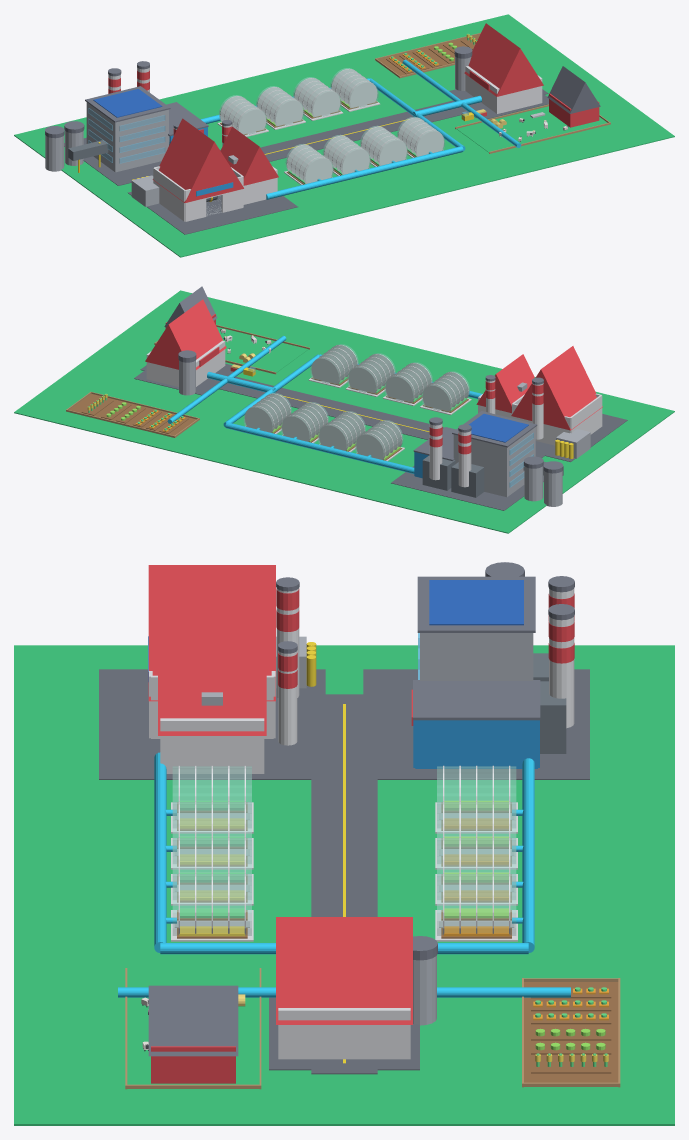
The model's file is agro_power_complex.glb.
3 renders of one model, top to bottom at view 1: azimuth 30°, elevation 25°; view 2: azimuth 150°, elevation 25°; view 3: azimuth 270°, elevation 25°, orthographic. The views are drawn at different scales.
Parts seen in each view (by area): view 1: Agro_Master_Green_Base, Coal_Boiler_Tower, Gas_Roof_Main, Farm_Kitchen_Roof, Pasture_Meadow, Central_Boulevard_Road, Gas_Plaza_Asphalt, Gas_Roof_Boiler, Farm_Kitchen_Main, Animal_Barn_Roof, Pipe_Gas_Main, GH1_Vault.003 (+34 smaller); view 2: Agro_Master_Green_Base, Gas_Roof_Main, Coal_Boiler_Tower, Farm_Kitchen_Roof, Central_Boulevard_Road, Pasture_Meadow, Gas_Roof_Boiler, Coal_Plaza_Asphalt, Pipe_Coal_Main, GH2_Vault, GH2_Vault.001, GH2_Vault.002 (+34 smaller); view 3: Agro_Master_Green_Base, Central_Boulevard_Road, Farm_Kitchen_Roof, Gas_Roof_Main, Gas_Plaza_Asphalt, Coal_Plaza_Asphalt, Gas_Roof_Boiler, Farm_Kitchen_Main, Animal_Barn_Roof, Pasture_Meadow, Coal_Turbine_Wall_R, Coal_Boiler_Tower (+26 smaller).
Part boxes in pixels (<box>): Agro_Master_Green_Base: <box>14,14,674,257</box>; Coal_Boiler_Tower: <box>86,102,168,172</box>; Gas_Roof_Main: <box>152,118,243,202</box>; Farm_Kitchen_Roof: <box>464,23,543,96</box>; Pasture_Meadow: <box>457,106,607,152</box>; Central_Boulevard_Road: <box>140,89,548,177</box>; Gas_Plaza_Asphalt: <box>128,192,297,234</box>; Gas_Roof_Boiler: <box>220,126,278,185</box>; Farm_Kitchen_Main: <box>465,66,542,113</box>; Animal_Barn_Roof: <box>547,66,600,113</box>; Pipe_Gas_Main: <box>266,146,463,199</box>; GH1_Vault.003: <box>330,68,378,109</box>; Agro_Master_Green_Base: <box>14,290,674,533</box>; Gas_Roof_Main: <box>511,346,602,430</box>; Coal_Boiler_Tower: <box>453,427,535,497</box>; Farm_Kitchen_Roof: <box>145,299,226,369</box>; Central_Boulevard_Road: <box>140,365,547,457</box>; Pasture_Meadow: <box>217,327,308,372</box>; Gas_Roof_Boiler: <box>476,354,534,413</box>; Coal_Plaza_Asphalt: <box>391,466,543,510</box>; Pipe_Coal_Main: <box>225,422,414,473</box>; GH2_Vault: <box>421,371,469,412</box>; GH2_Vault.001: <box>384,362,432,403</box>; GH2_Vault.002: <box>347,353,395,394</box>; Agro_Master_Green_Base: <box>14,645,674,1125</box>; Central_Boulevard_Road: <box>311,694,377,1074</box>; Farm_Kitchen_Roof: <box>276,917,412,1024</box>; Gas_Roof_Main: <box>148,565,275,701</box>; Gas_Plaza_Asphalt: <box>99,669,325,779</box>; Coal_Plaza_Asphalt: <box>363,669,589,779</box>; Gas_Roof_Boiler: <box>158,646,266,735</box>; Farm_Kitchen_Main: <box>278,1008,410,1059</box>; Animal_Barn_Roof: <box>148,985,238,1056</box>; Pasture_Meadow: <box>127,972,259,1084</box>; Coal_Turbine_Wall_R: <box>415,720,537,768</box>; Coal_Boiler_Tower: <box>420,633,533,680</box>.
Bounding box in the file's own units: 245 × 36.64 × 140.
